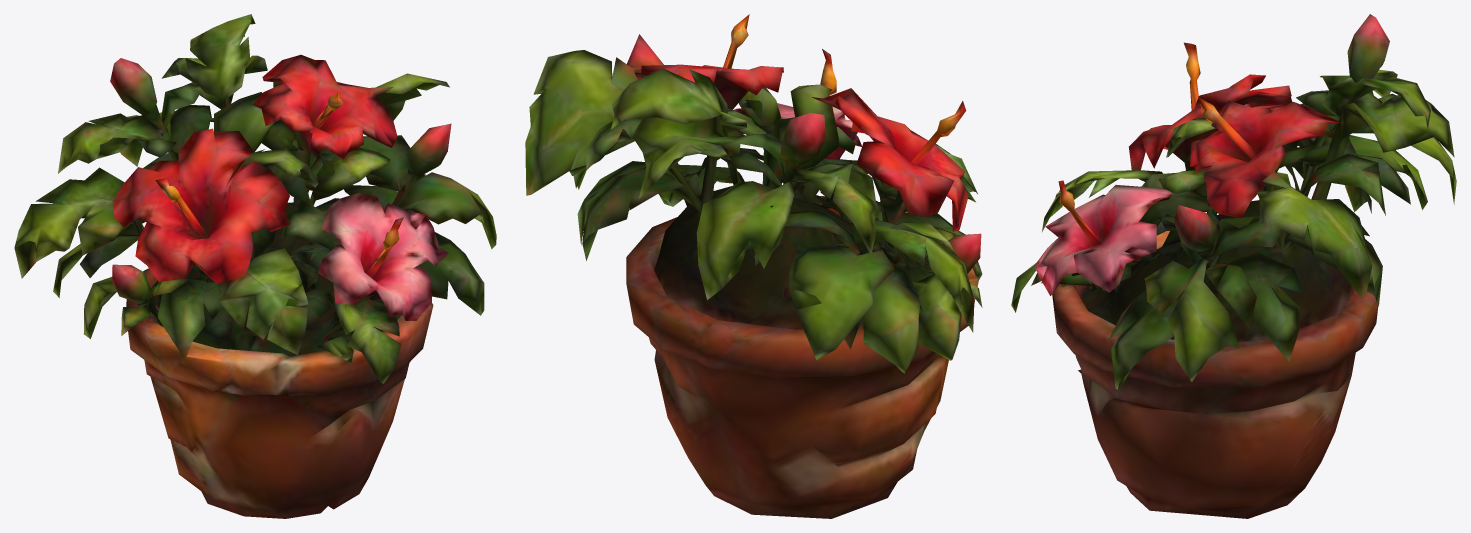
File: prop-planter-flowers-v2-mobile.glb
3 renders of one model, left to right at view 1: azimuth 30°, elevation 25°; view 2: azimuth 150°, elevation 25°; view 3: azimuth 270°, elevation 25°, orthographic. The views are drawn at different scales.
Visible parts, largest first — view 1: tripo_node_6b65fc43-74d8-4e5e-b36f-7a21d4cb085b; view 2: tripo_node_6b65fc43-74d8-4e5e-b36f-7a21d4cb085b; view 3: tripo_node_6b65fc43-74d8-4e5e-b36f-7a21d4cb085b.
Boxes of the visible parts, left/top/right/bottom form: tripo_node_6b65fc43-74d8-4e5e-b36f-7a21d4cb085b: left=14, top=14, right=496, bottom=518; tripo_node_6b65fc43-74d8-4e5e-b36f-7a21d4cb085b: left=525, top=14, right=982, bottom=518; tripo_node_6b65fc43-74d8-4e5e-b36f-7a21d4cb085b: left=1011, top=14, right=1456, bottom=518.
Size of the model in its own units: 0.9812 by 0.913 by 0.8579.
Materials: 1 (1 with a texture image).
